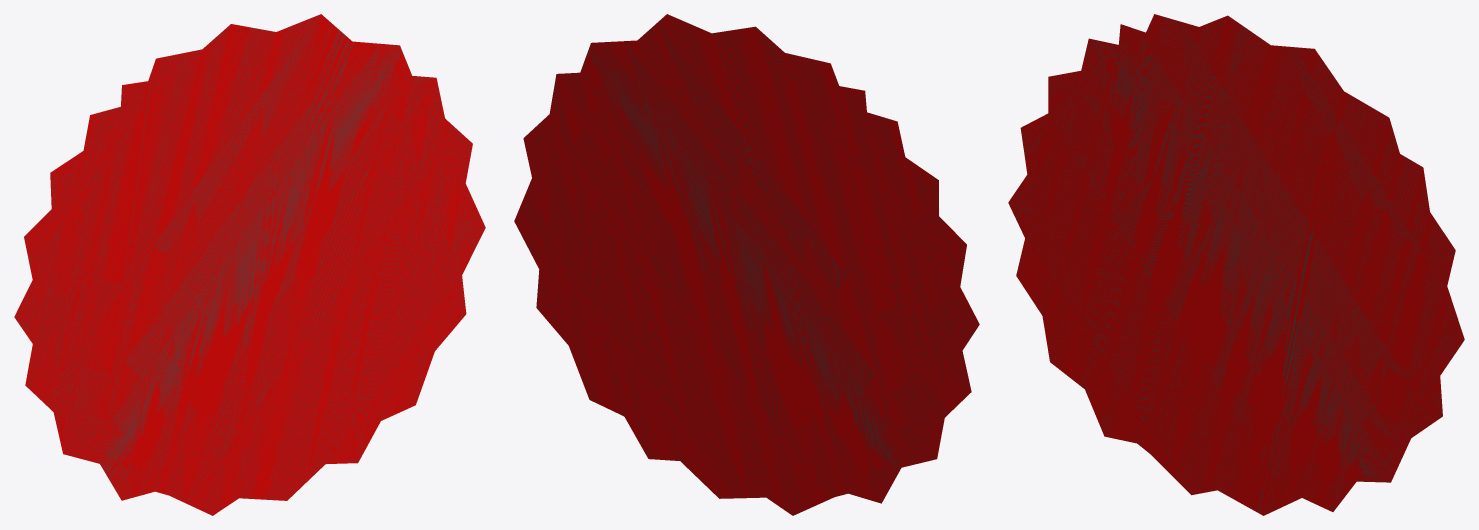
File: original-54.obj
3 renders of one model, left to right at view 1: azimuth 30°, elevation 25°; view 2: azimuth 150°, elevation 25°; view 3: azimuth 330°, elevation 25°, orthographic. The views are drawn at different scales.
Parts seen in each view (by area): view 1: Group3/mesh2/mesh2-geometry/material_2/component_1#mesh2-geometr; view 2: Group3/mesh2/mesh2-geometry/material_2/component_1#mesh2-geometr; view 3: Group3/mesh2/mesh2-geometry/material_2/component_1#mesh2-geometr.
Boxes of the visible parts, bbox=[...] form: Group3/mesh2/mesh2-geometry/material_2/component_1#mesh2-geometr: bbox=[14, 14, 485, 515]; Group3/mesh2/mesh2-geometry/material_2/component_1#mesh2-geometr: bbox=[514, 14, 979, 515]; Group3/mesh2/mesh2-geometry/material_2/component_1#mesh2-geometr: bbox=[1008, 14, 1464, 515].
Bounding box in the file's own units: 0.2079 × 0.206 × 0.00939.
